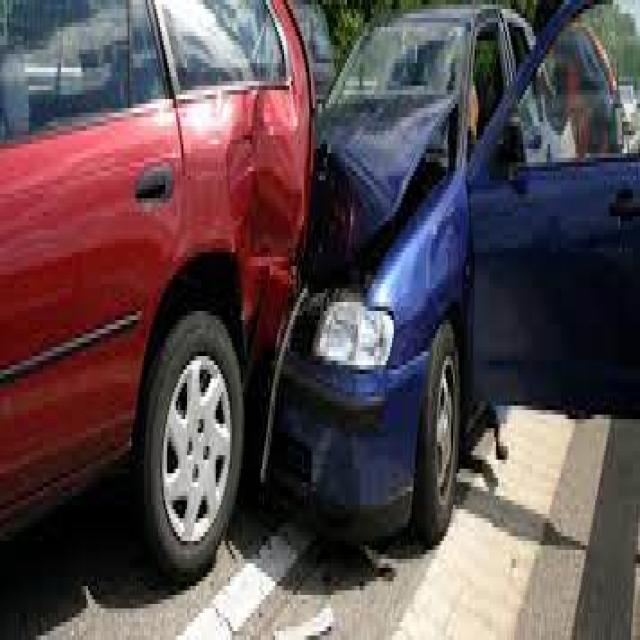car-minor-accident: (0, 0, 625, 626)
